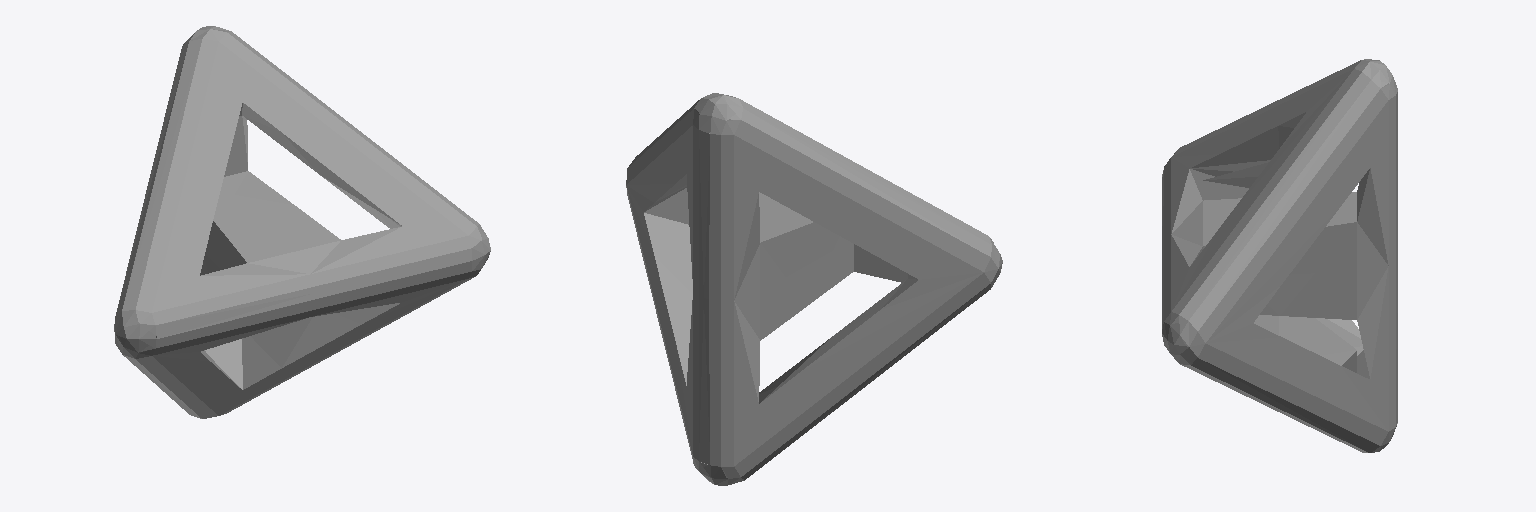
The model's file is Tetraframe1.obj.
3 views of the same model, side by side, from view 1: azimuth 30°, elevation 25°; view 2: azimuth 150°, elevation 25°; view 3: azimuth 270°, elevation 25° (orthographic).
Visible parts, largest first — view 1: Tetraframe1; view 2: Tetraframe1; view 3: Tetraframe1.
Boxes of the visible parts, box(x1,y1,x2,y2) form: Tetraframe1: box(114, 26, 490, 418); Tetraframe1: box(626, 93, 1002, 485); Tetraframe1: box(1162, 59, 1397, 452).
Bounding box in the file's own units: 3.31 × 3.31 × 1.83.